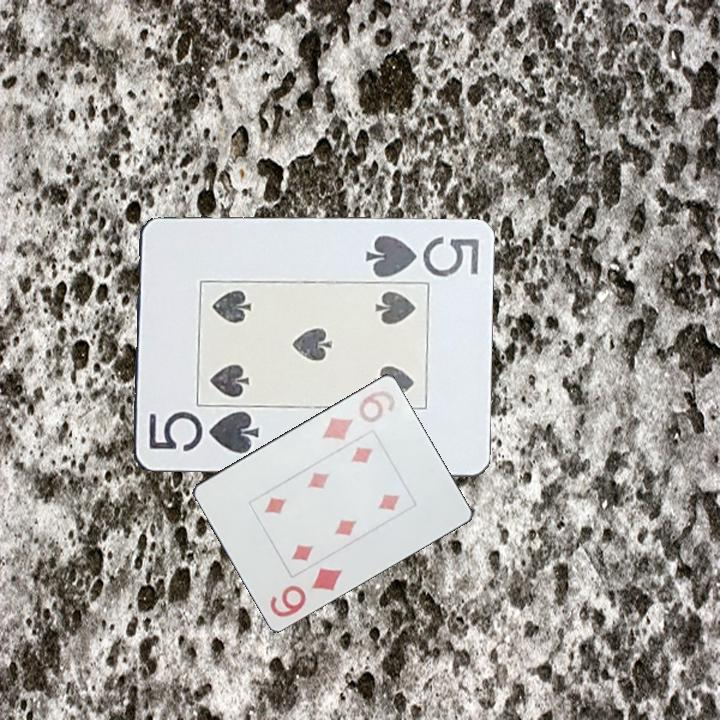5s: (361, 232, 481, 280), (145, 409, 262, 458)
6d: (318, 386, 399, 443), (266, 564, 345, 621)
